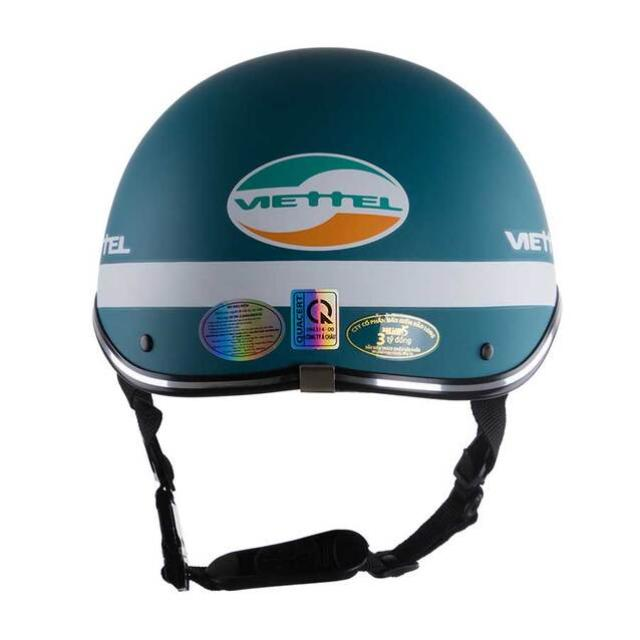Helmet: (84, 38, 564, 608)
